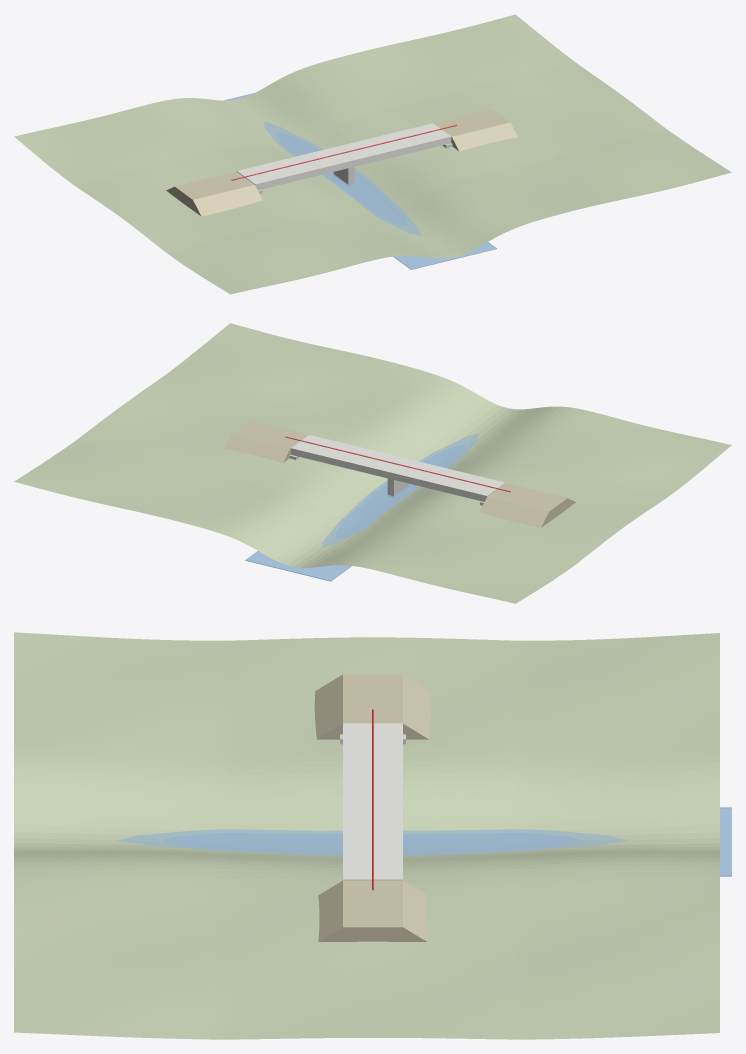
3 renders of one model, top to bottom at view 1: azimuth 30°, elevation 25°; view 2: azimuth 150°, elevation 25°; view 3: azimuth 270°, elevation 25°, orthographic. The views are drawn at different scales.
Visible parts, largest first — view 1: 地形|現況地形 (参考), 上部工|上部工 (桁+床版を一体化した箱形), 地形|水面 (参考), 土工|取付部盛土 (起点側, 参考), 土工|取付部盛土 (終点側, 参考); view 2: 地形|現況地形 (参考), 上部工|上部工 (桁+床版を一体化した箱形), 地形|水面 (参考), 土工|取付部盛土 (起点側, 参考), 土工|取付部盛土 (終点側, 参考); view 3: 地形|現況地形 (参考), 地形|水面 (参考), 上部工|上部工 (桁+床版を一体化した箱形), 土工|取付部盛土 (終点側, 参考), 土工|取付部盛土 (起点側, 参考).
Part boxes in pixels (box(x1,y1,x2,y2)): 地形|現況地形 (参考): box(14, 14, 731, 294); 上部工|上部工 (桁+床版を一体化した箱形): box(237, 123, 451, 190); 地形|水面 (参考): box(223, 93, 496, 269); 土工|取付部盛土 (起点側, 参考): box(166, 171, 262, 216); 土工|取付部盛土 (終点側, 参考): box(434, 109, 517, 151); 地形|現況地形 (参考): box(14, 323, 731, 603); 上部工|上部工 (桁+床版を一体化した箱形): box(291, 435, 504, 501); 地形|水面 (参考): box(245, 433, 478, 581); 土工|取付部盛土 (起点側, 参考): box(479, 483, 575, 527); 土工|取付部盛土 (終点側, 参考): box(224, 420, 308, 462); 地形|現況地形 (参考): box(14, 632, 719, 1039); 地形|水面 (参考): box(117, 807, 731, 876); 上部工|上部工 (桁+床版を一体化した箱形): box(343, 723, 402, 880); 土工|取付部盛土 (終点側, 参考): box(318, 880, 427, 941); 土工|取付部盛土 (起点側, 参考): box(314, 674, 431, 739).
Size of the model in its own units: 158 by 11.03 by 120.
